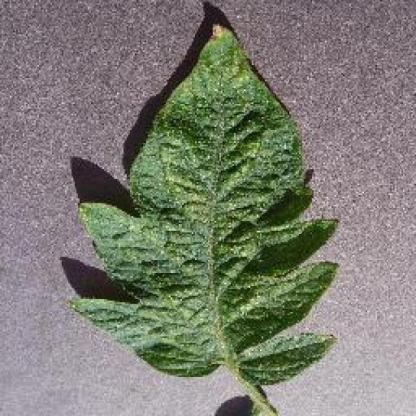Tomato_Spider_Mites: (74, 25, 334, 383)
